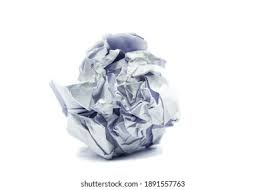crumpled paper: (43, 30, 188, 166)
